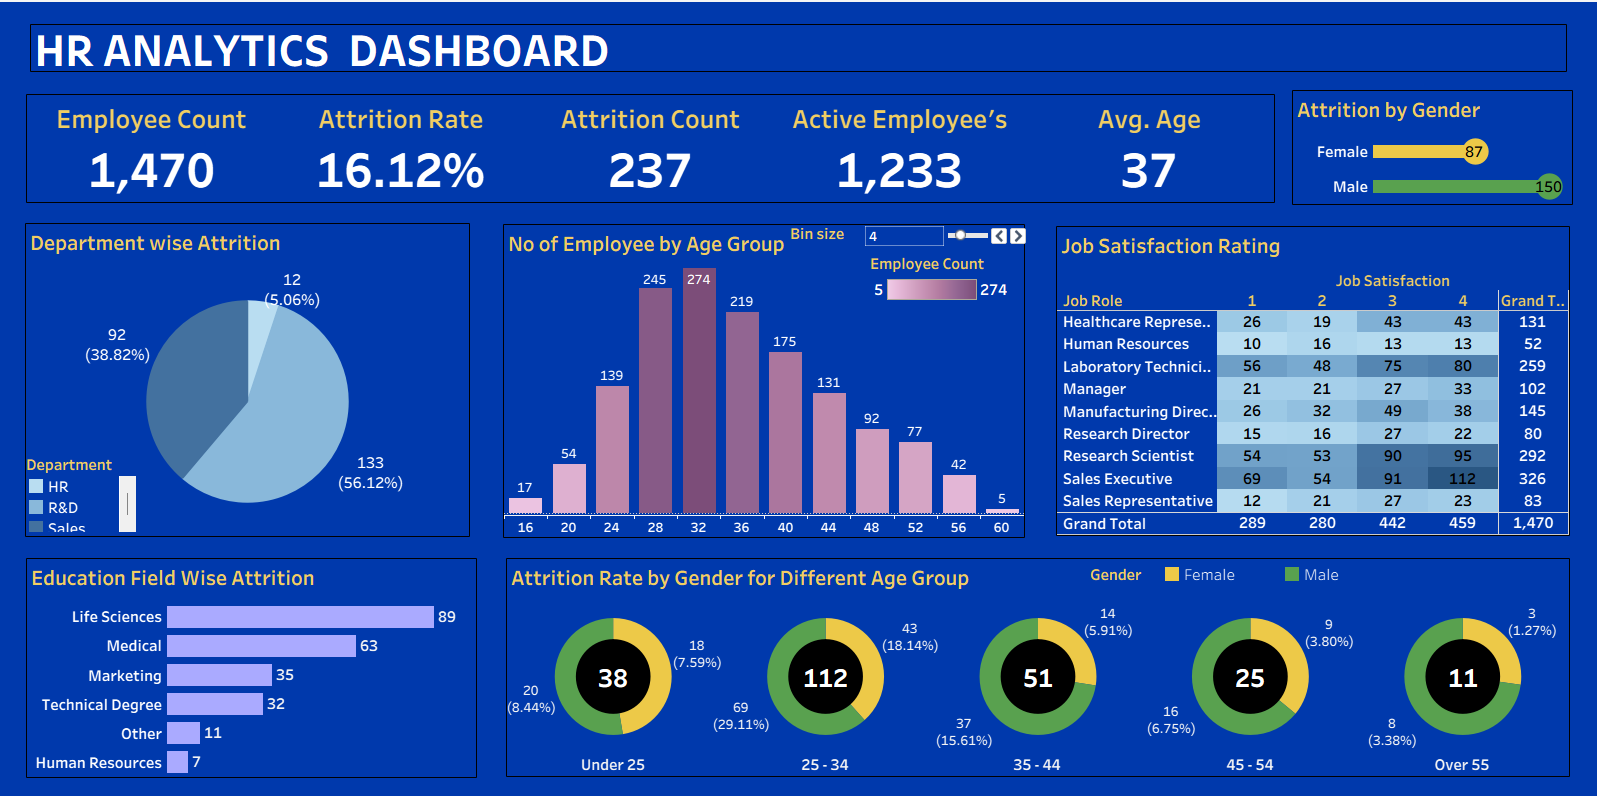

What the dashboard file says about the page in this screenshot:
{"tool":"tableau","page":{"name":"HR ANALYSTICS DASHBOARD (2)","canvas":[1600,800],"ordinal":0},"visuals":[{"type":"image","param":"C:/Users/DELL/Documents/Presentation1.jpg","box":[8,8,1584,784]},{"type":"text","box":[31.4,22.2,1537.2,48]},{"type":"worksheet","title":"Attrition by Gender","mark":"Automatic","rows":["Gender"],"cols":["Calculation_896216377797652480","Calculation_896216377797652480"],"box":[1293,88,281,115]},{"type":"worksheet","title":"KPI","mark":"Automatic","box":[27,92,1249,109]},{"type":"worksheet","title":"Department wise Attrition","mark":"Pie","box":[26.3,221.3,444.6,313.8]},{"type":"parameter","param":"[Parameters].[Parameter 1]","box":[790.9,221.3,239,34.7]},{"type":"worksheet","title":"No of Employee by Age Group","mark":"Bar","rows":["Employee Count"],"cols":["Age (bin)"],"box":[504,222,522,314]},{"type":"worksheet","title":"Job Satisfaction Rating","mark":"Square","rows":["Job Role"],"cols":["Job Satisfaction"],"box":[1057.2,224,514.4,310.2]},{"type":"legend","title":"No of Employee by Age Group","param":"[federated.1fto5cb1345a6x1c3in0o1wsfdmh].[sum:Employee Count:qk]","box":[870.9,250.7,141.8,56.9]},{"type":"legend","title":"Department wise Attrition","param":"[federated.1fto5cb1345a6x1c3in0o1wsfdmh].[none:Department:nk]","box":[27.3,452.4,112.4,78.2]},{"type":"worksheet","title":"Education Field Wise Attrition","mark":"Automatic","rows":["Education Field"],"cols":["Calculation_896216377797652480"],"box":[27,556,451,220]},{"type":"worksheet","title":"Attrition Rate by Gender for Different Age Group","mark":"Pie","rows":["Calculation_896216377827213316","Calculation_896216377827213316"],"cols":["CF_age band"],"box":[507,556,1064,219]},{"type":"legend","title":"Attrition Rate by Gender for Different Age Group","param":"[federated.1fto5cb1345a6x1c3in0o1wsfdmh].[none:Gender:nk]","box":[1090.6,561.8,389.9,25.8]}]}

Visuals, with their boxes in screenshot pixels (x1, y1, x2, y2), scaled from the page's 1600x800 canvas onto the 1597x796 screenshot:
image: Rect(8, 8, 1589, 788)
text: Rect(31, 22, 1566, 70)
"Attrition by Gender" worksheet: Rect(1291, 88, 1571, 202)
"KPI" worksheet: Rect(27, 92, 1274, 200)
"Department wise Attrition" worksheet (Pie marks): Rect(26, 220, 470, 532)
parameter: Rect(789, 220, 1028, 255)
"No of Employee by Age Group" worksheet (Bar marks): Rect(503, 221, 1024, 533)
"Job Satisfaction Rating" worksheet (Square marks): Rect(1055, 223, 1569, 532)
"No of Employee by Age Group" legend: Rect(869, 249, 1011, 306)
"Department wise Attrition" legend: Rect(27, 450, 139, 528)
"Education Field Wise Attrition" worksheet: Rect(27, 553, 477, 772)
"Attrition Rate by Gender for Different Age Group" worksheet (Pie marks): Rect(506, 553, 1568, 771)
"Attrition Rate by Gender for Different Age Group" legend: Rect(1089, 559, 1478, 585)
